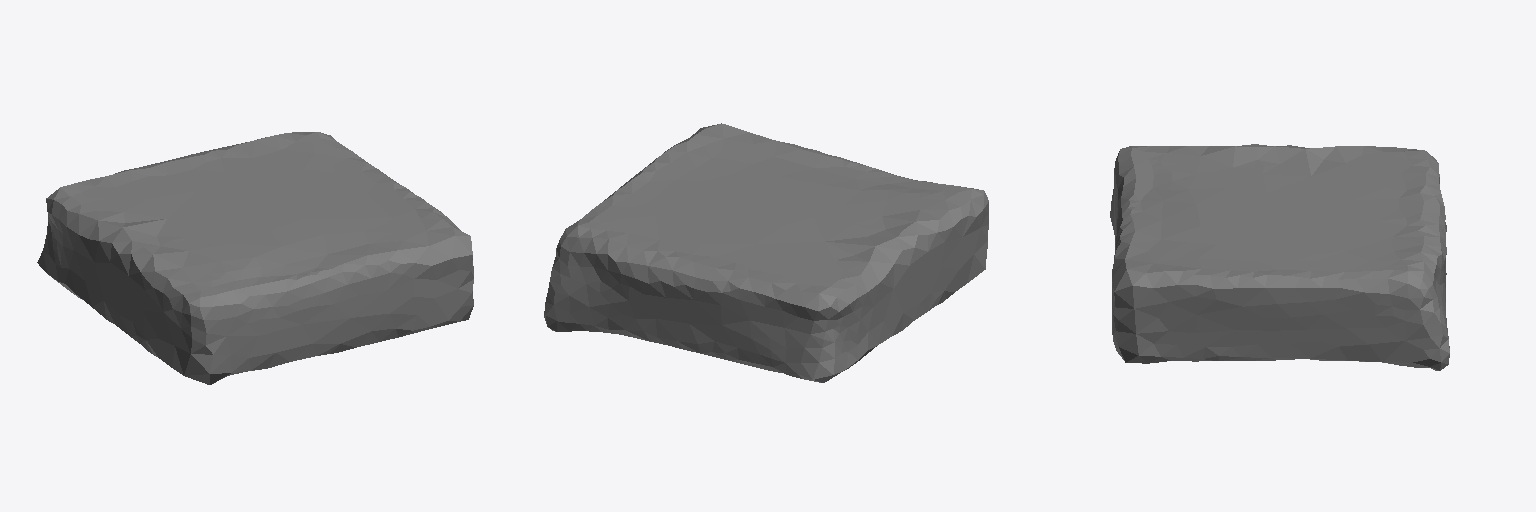
File: StonePlatform_A.obj
3 views of the same model, side by side, from view 1: azimuth 30°, elevation 25°; view 2: azimuth 150°, elevation 25°; view 3: azimuth 270°, elevation 25° (orthographic).
Parts seen in each view (by area): view 1: Stone_A; view 2: Stone_A; view 3: Stone_A.
Boxes of the visible parts, x1=… form: Stone_A: x1=37, y1=132, x2=473, y2=384; Stone_A: x1=544, y1=123, x2=988, y2=382; Stone_A: x1=1110, y1=144, x2=1449, y2=370.
Size of the model in its own units: 20.74 by 6.61 by 20.97.